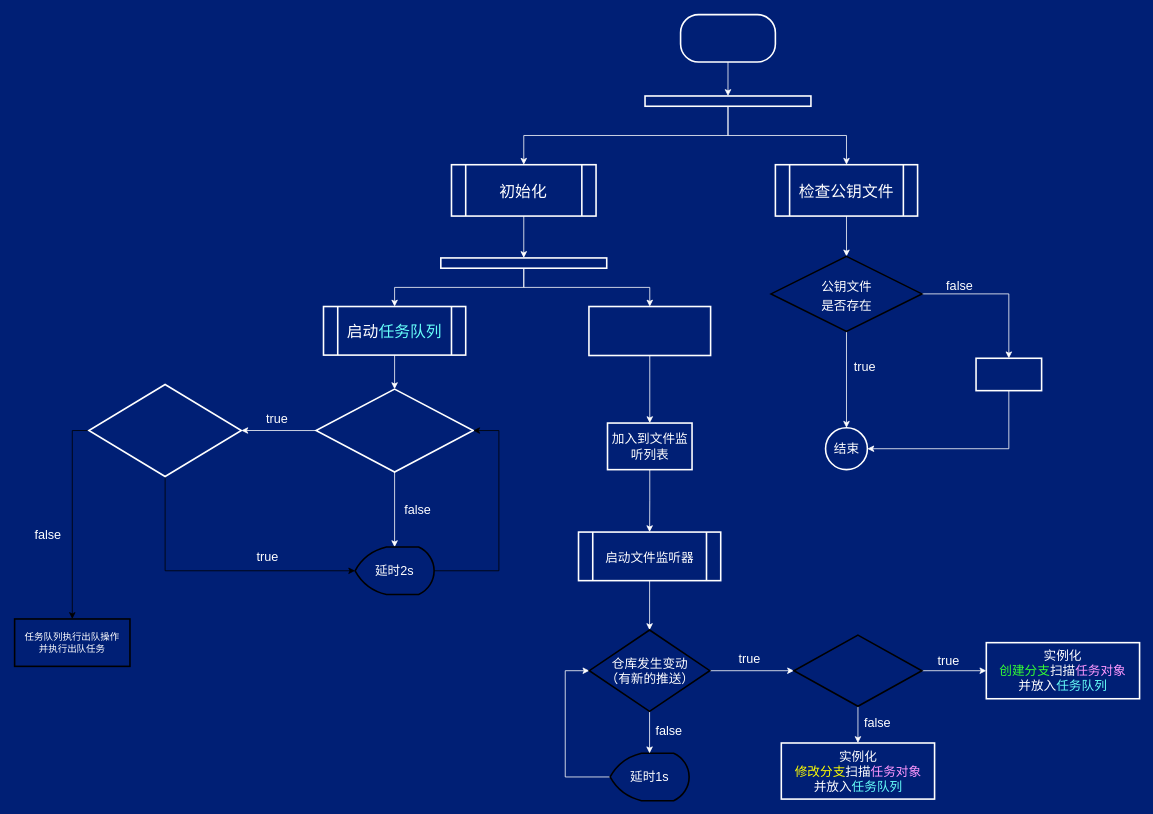
This 1153x814 diagram has some shape labels left out. The centre of each missing label's shape, as x and y in pixels:
"从数据库拉取 全部文集仓库信息" goes at (649,330).
"任务队列 是否有 任务对象" goes at (394,430).
"分支被首次创建" goes at (857,670).
"创建" goes at (1008,374).
"启动" goes at (727,37).
"当前是否有 任务对象 正在执行" goes at (165,430).
